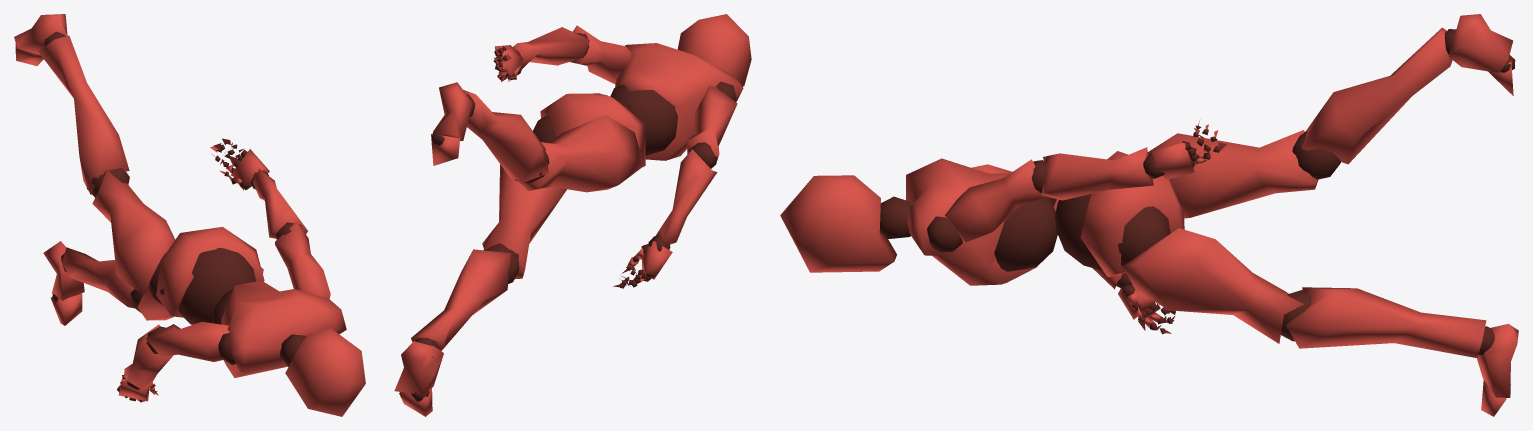
The picture shows the model from 3 angles, left to right: view 1: azimuth 30°, elevation 25°; view 2: azimuth 150°, elevation 25°; view 3: azimuth 270°, elevation 25°; orthographic projection. The views are drawn at different scales.
Parts seen in each view (by area): view 1: Beta_Surface, Beta_Joints; view 2: Beta_Surface, Beta_Joints; view 3: Beta_Surface, Beta_Joints.
Part boxes in pixels (box(x1,y1,x2,y2)): Beta_Surface: box(14, 14, 365, 416); Beta_Joints: box(44, 31, 306, 402); Beta_Surface: box(394, 14, 751, 416); Beta_Joints: box(411, 32, 736, 401); Beta_Surface: box(780, 14, 1518, 416); Beta_Joints: box(879, 29, 1515, 384).
Size of the model in its own units: 0.562 by 1.01 by 1.75.
